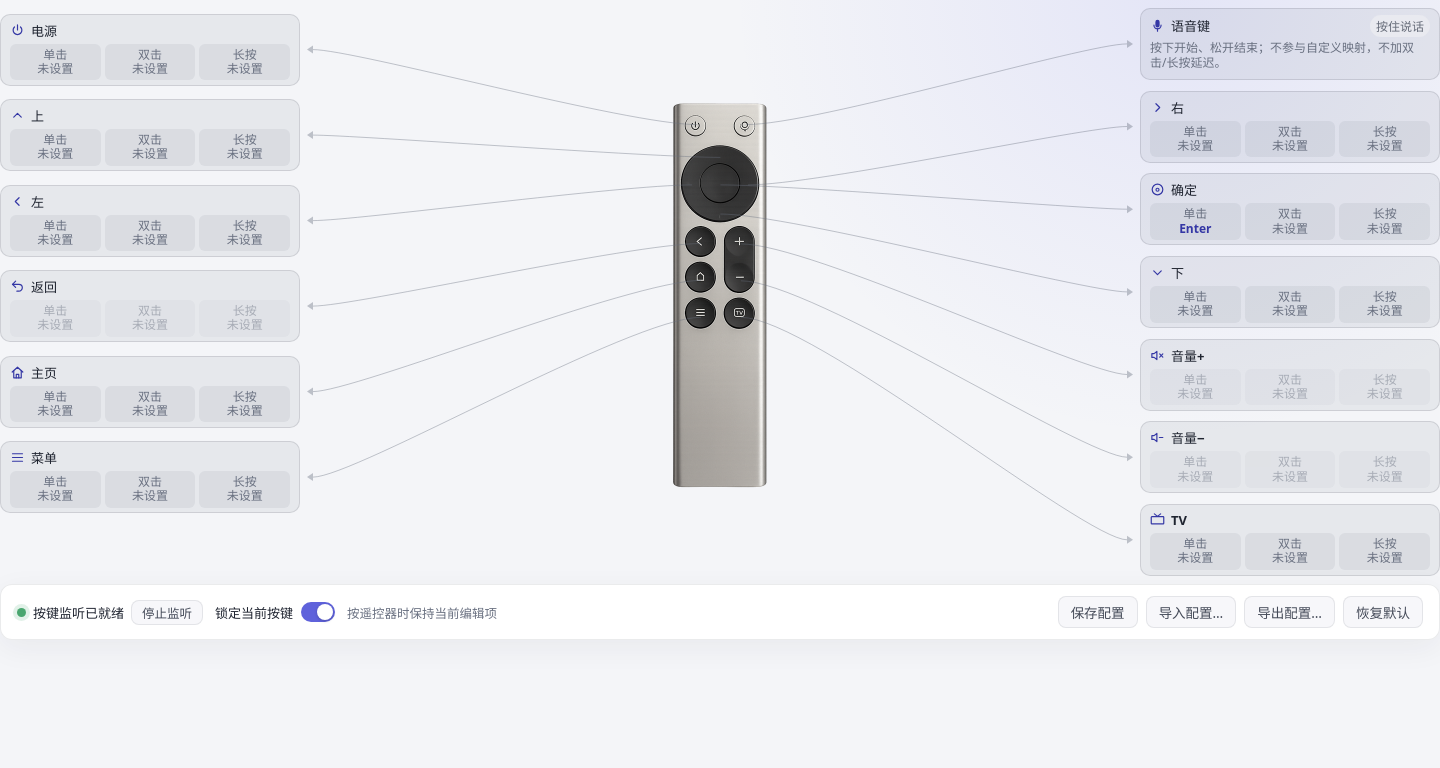
Scenario: buttons mapping page › marks configured cells and opens the editor with the correct target
This screenshot has width=1440, height=768.
Expected: the element with class "mapping-card" showing "确定 单击 Enter 双击 未设置 长按 未设置" is shown, [1140,173,1439,245]
What coordinates should you click on to do the following:
click the button with class "mapping-cell" showing "单击 Enter"
I would click on:
 (1195, 222)
Its box is [1150,203,1241,240].
(page scrolled)
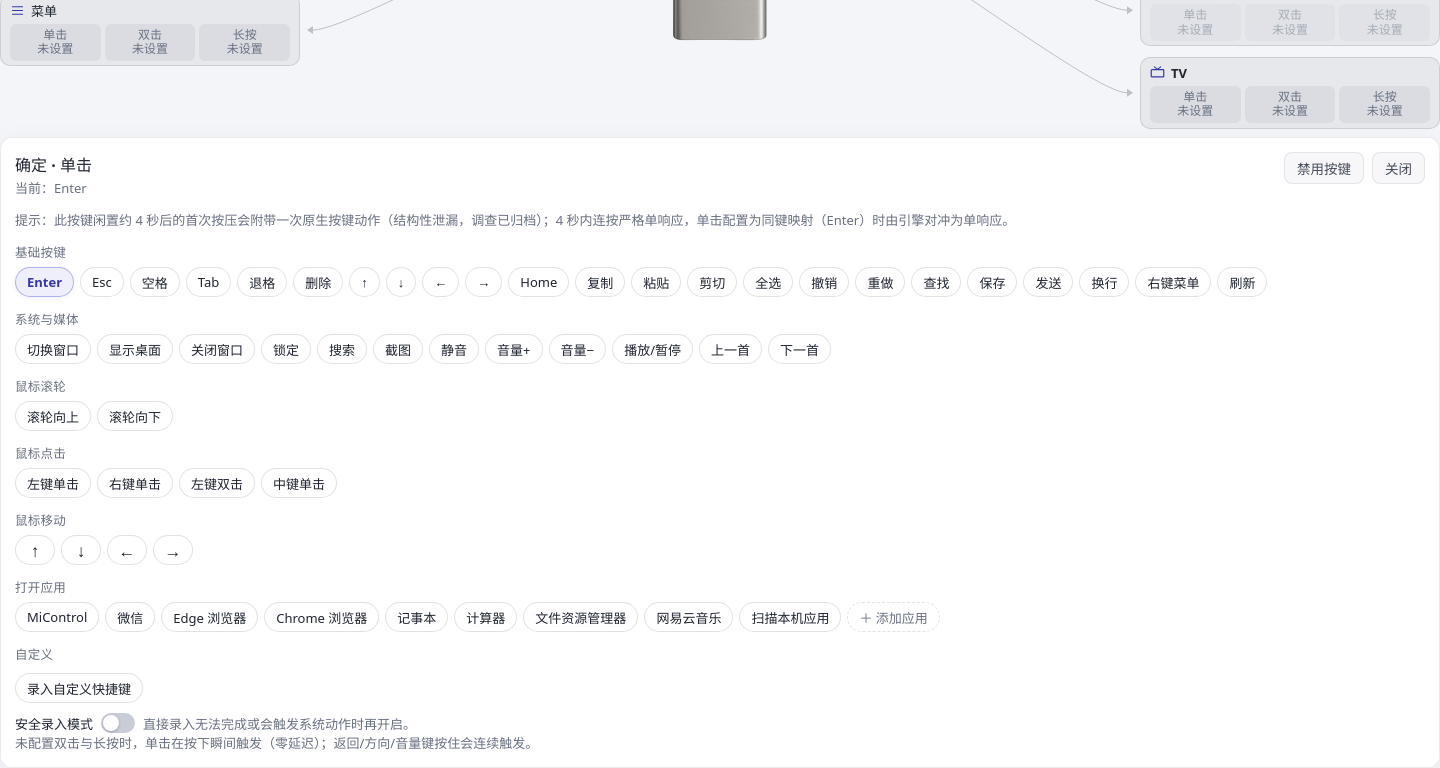
Expected: the element with class "mapping-editor" shows "确定 · 单击", [15,154,92,176]
